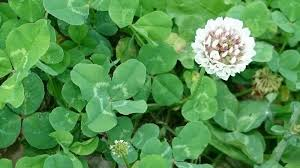4-clover: (69, 59, 148, 130)
